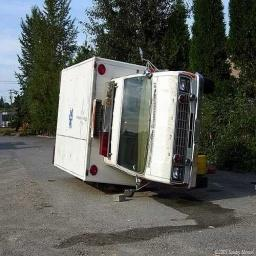ambulance: (54, 57, 204, 188)
